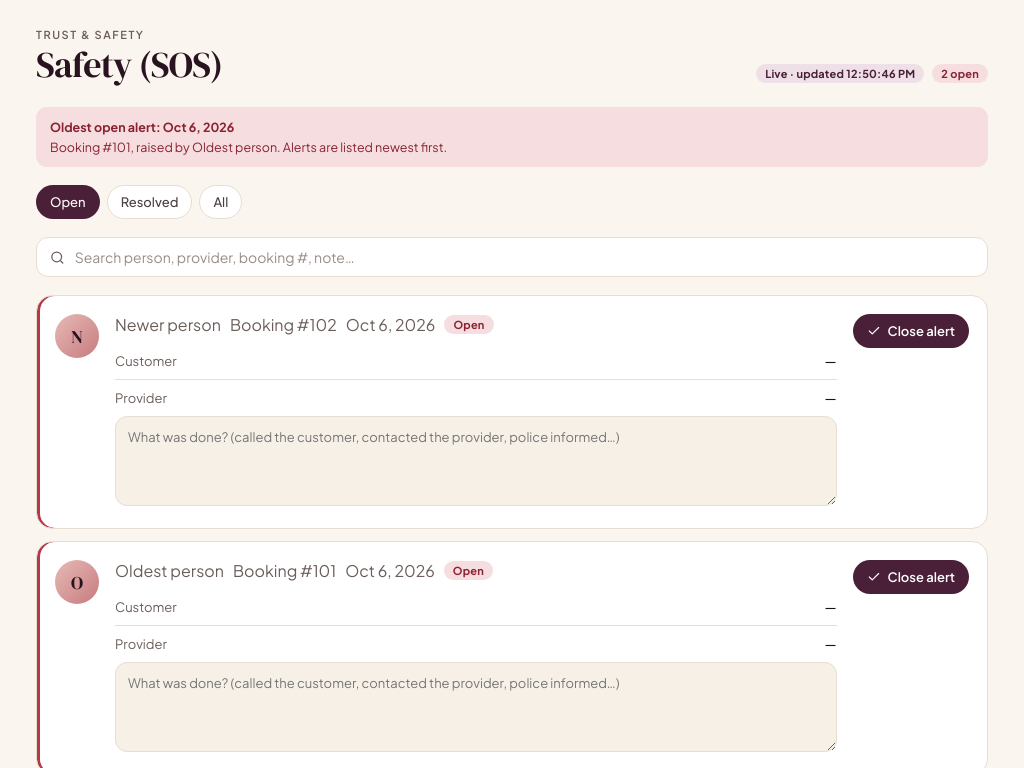
Scenario: <Safety> - the oldest-open-alert banner (R6-03) › an obsolete answer never replaces the banner of the search on screen
Type "newer" into the field with placeholder "Search person, provider, booking #, note…" at x=523, y=257, box x1=73 y1=247 x2=974 y2=267
Wait 400 ms
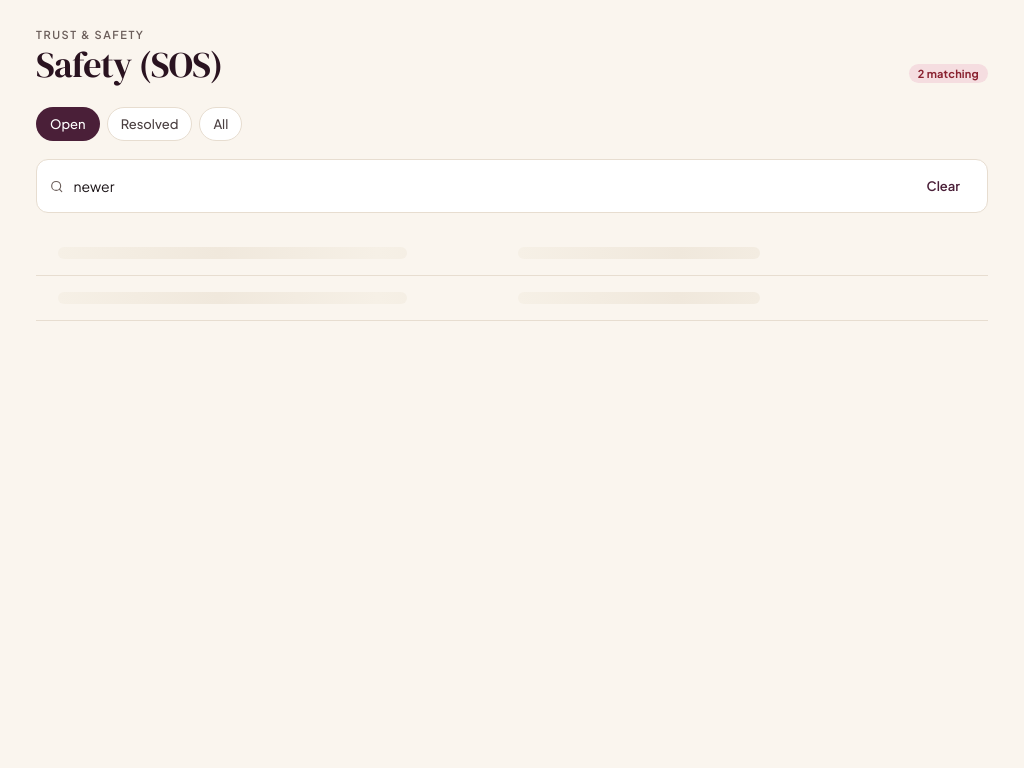
Replace the text in the field with placeholder "Search person, provider, booking #, note…" with "oldest" at x=486, y=186, box x1=72 y1=176 x2=901 y2=196
Wait 400 ms
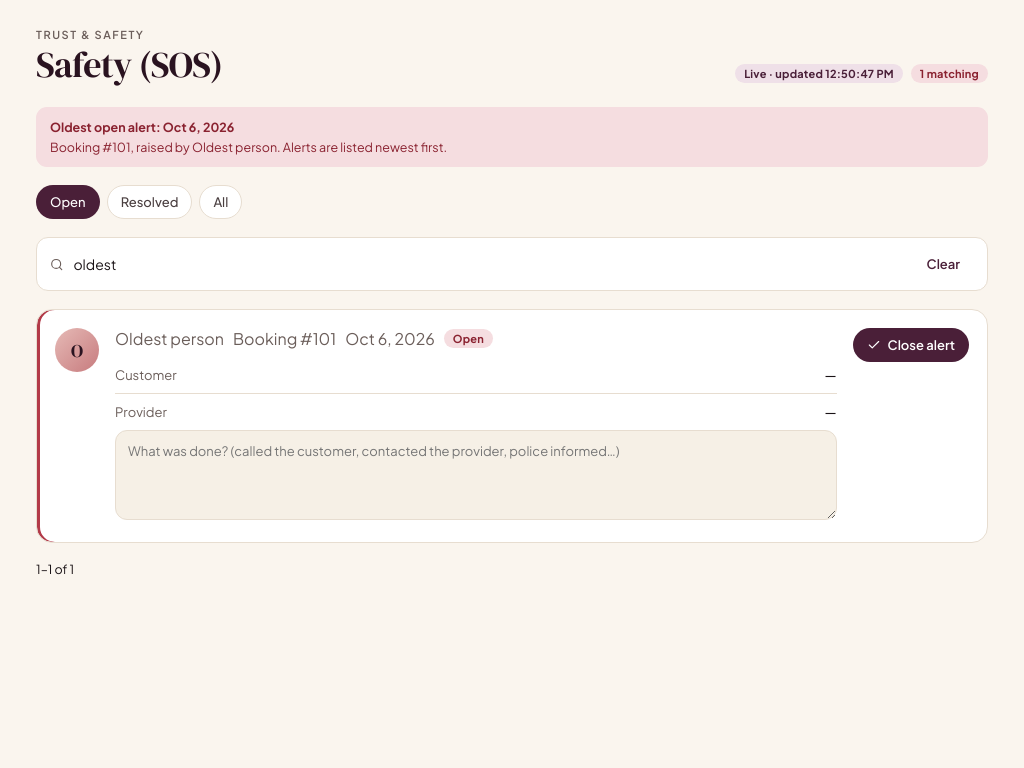
Check: the text "Oldest person" is shown, box x1=115 y1=328 x2=224 y2=349
Check: the text "1 matching" is shown, box x1=911 y1=64 x2=988 y2=83
Check: the text "raised by Oldest person" is shown, box x1=50 y1=139 x2=447 y2=155
